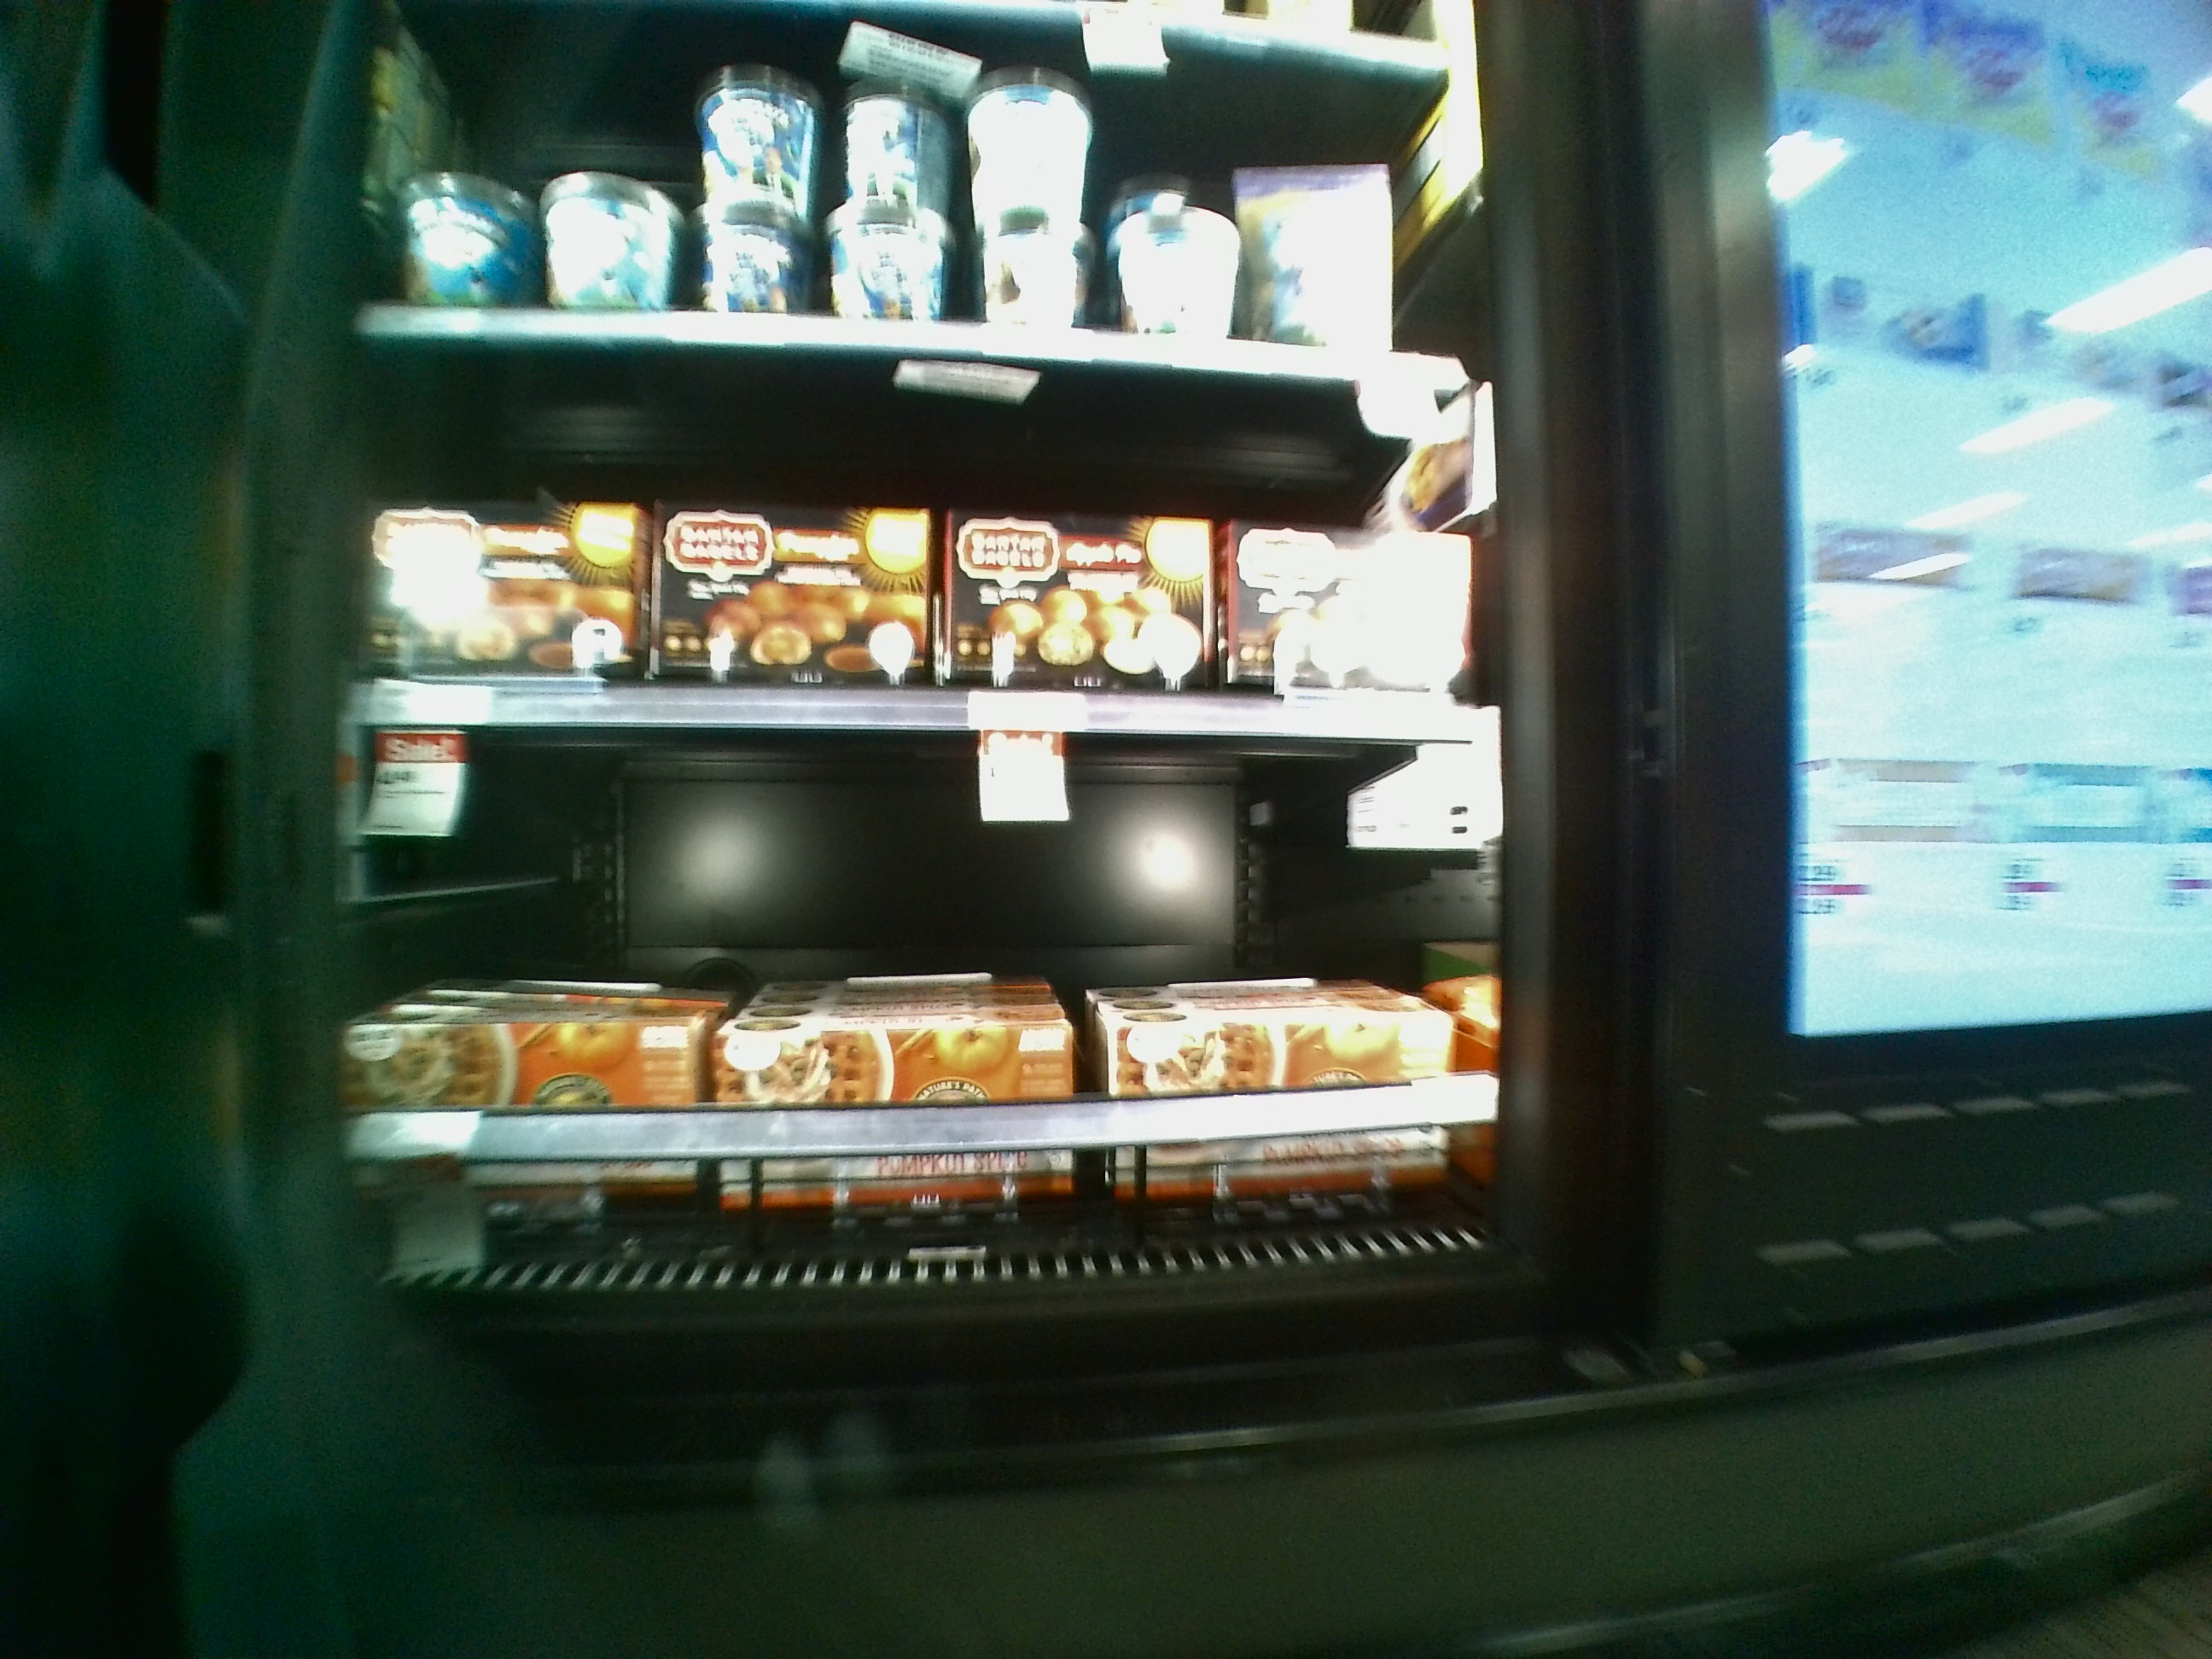shelf: (333, 694, 1508, 1272), (347, 321, 1491, 755)
